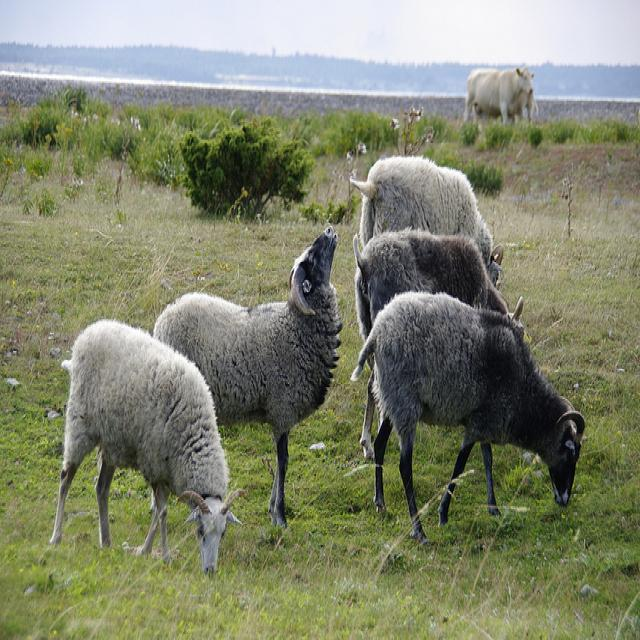cow: (461, 65, 533, 125)
